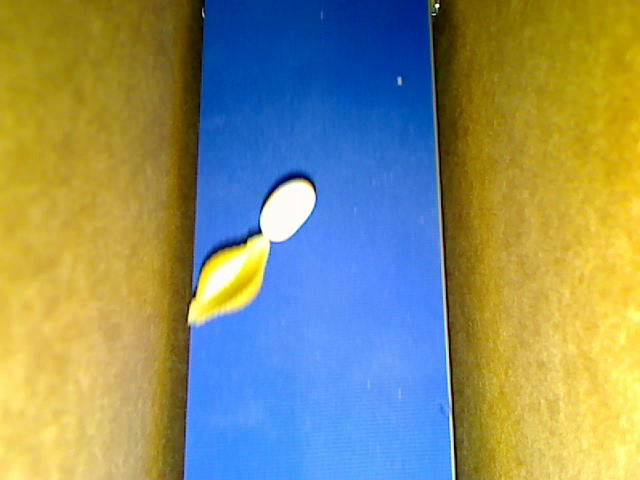shell: (190, 234, 272, 325)
